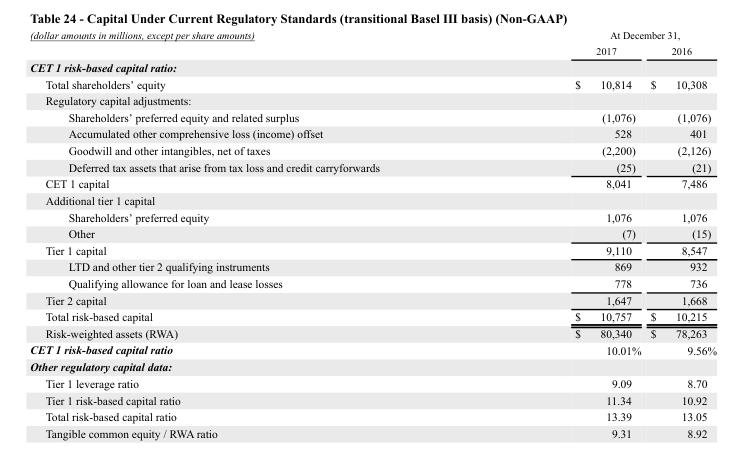table: (29, 28, 716, 439)
table column: (29, 28, 476, 439), (476, 28, 645, 439), (645, 28, 716, 439)
table column header: (29, 28, 716, 58)
table projected row header: (29, 58, 716, 75), (29, 191, 716, 208), (29, 357, 716, 374), (29, 92, 716, 108)
table row: (29, 58, 716, 75), (29, 75, 716, 92), (29, 108, 716, 125), (29, 141, 716, 158), (29, 158, 716, 175), (29, 191, 716, 208), (29, 208, 716, 225), (29, 241, 716, 258), (29, 274, 716, 291), (29, 291, 716, 308), (29, 324, 716, 341), (29, 357, 716, 374), (29, 374, 716, 391), (29, 407, 716, 424), (29, 42, 716, 58), (29, 92, 716, 108), (29, 125, 716, 141), (29, 175, 716, 191), (29, 225, 716, 241), (29, 258, 716, 274), (29, 308, 716, 324), (29, 341, 716, 357), (29, 391, 716, 407), (29, 424, 716, 439), (29, 28, 716, 42)
table spanning cell: (29, 28, 476, 58), (476, 28, 716, 42)
